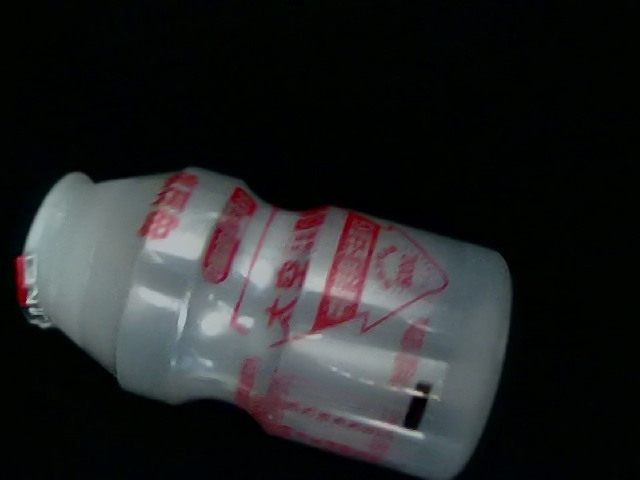CYLJ: (167, 1, 521, 251)
